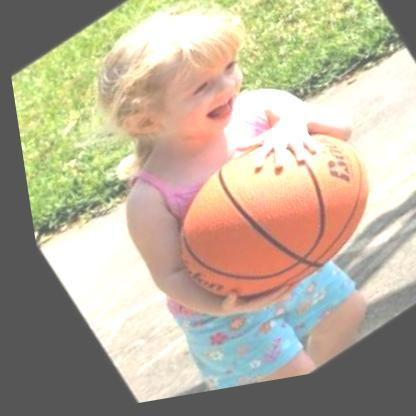basketball: (127, 97, 404, 350)
